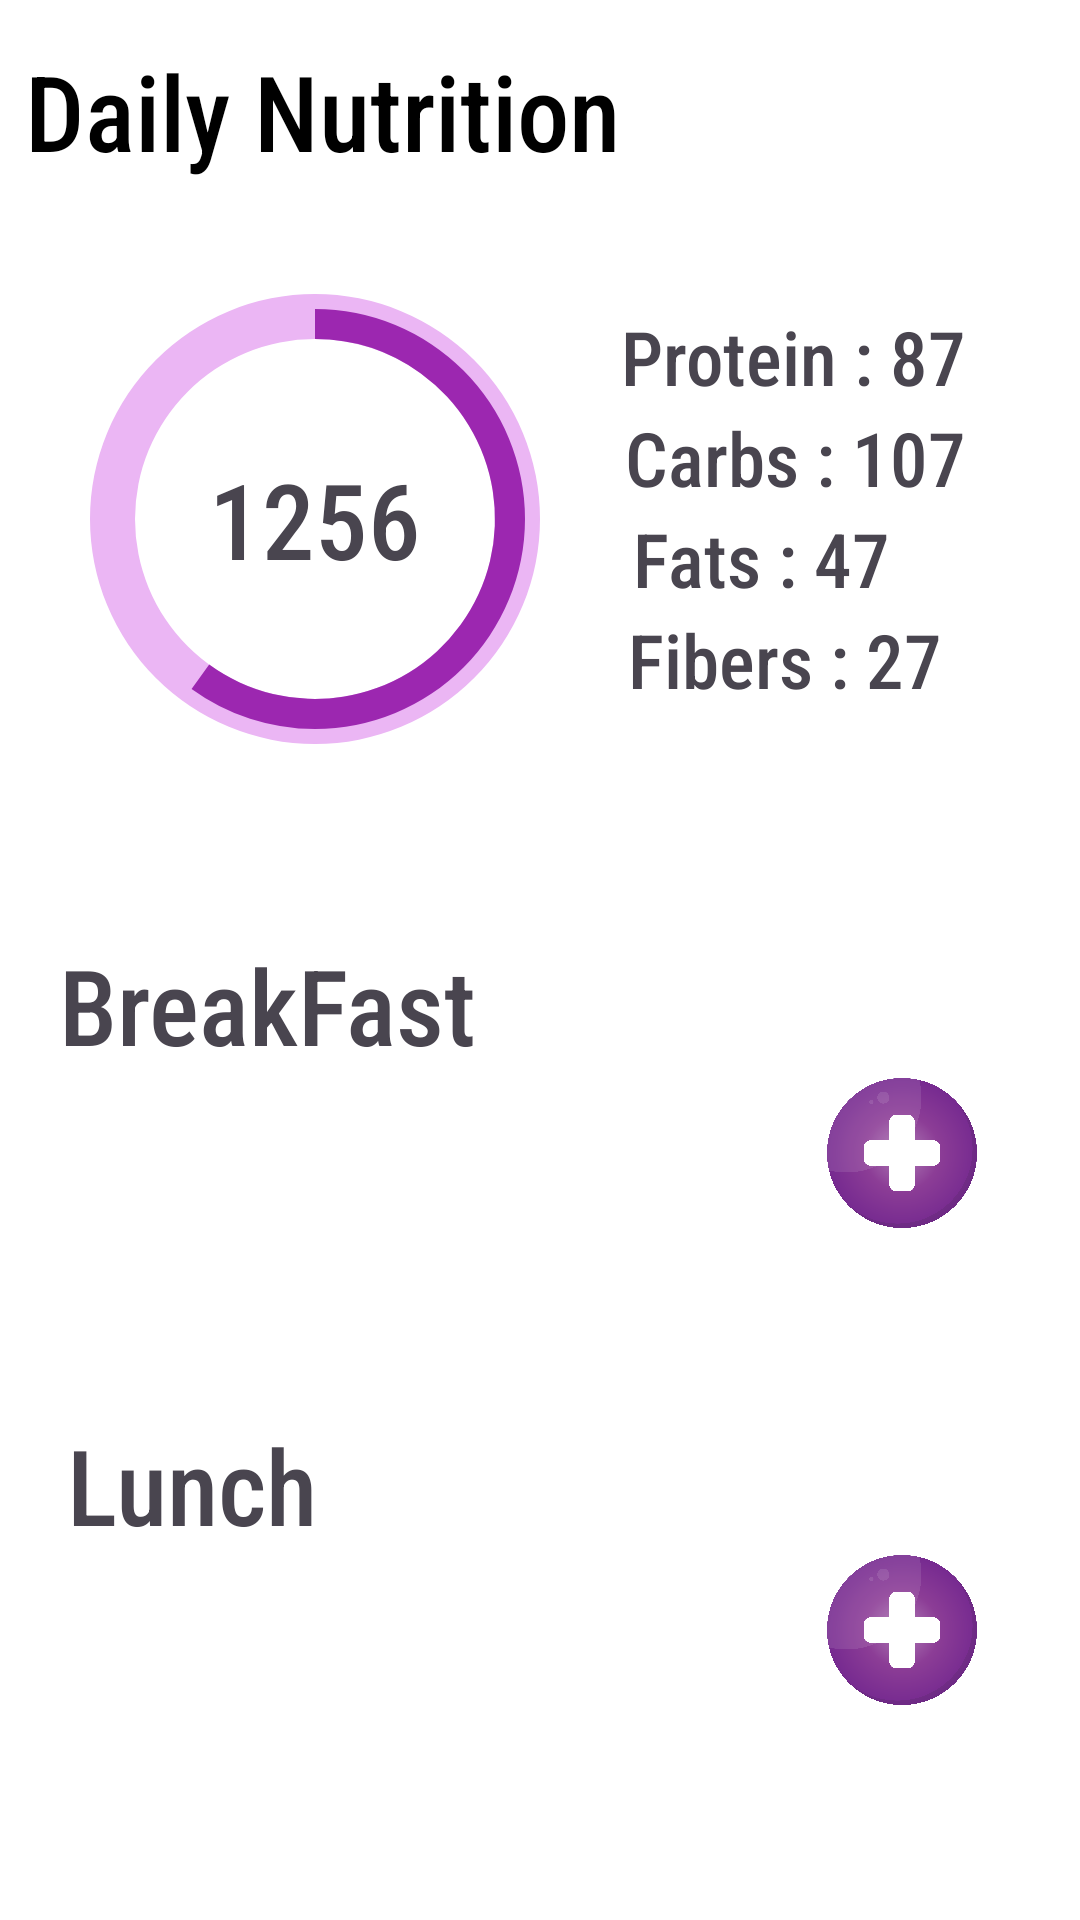

Icon click points for this 1080px x 1920px phone screenshot, format point (x, y):
plus: point (902, 1153), point (902, 1630)
